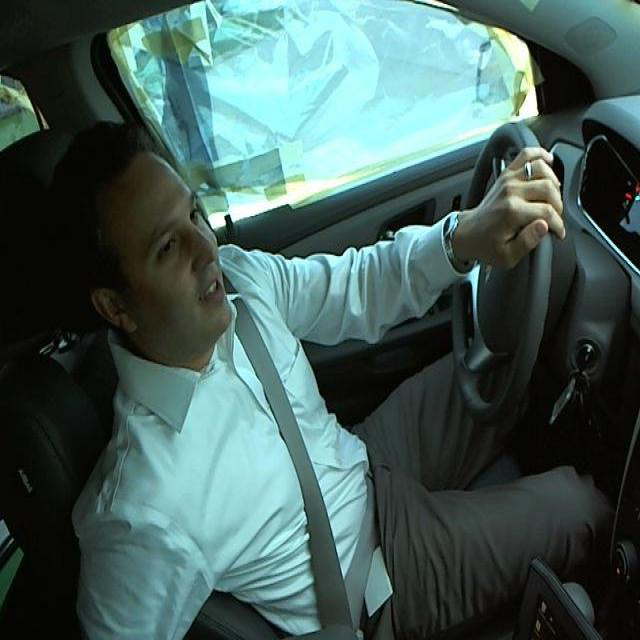seatbelt: (219, 331, 405, 609)
